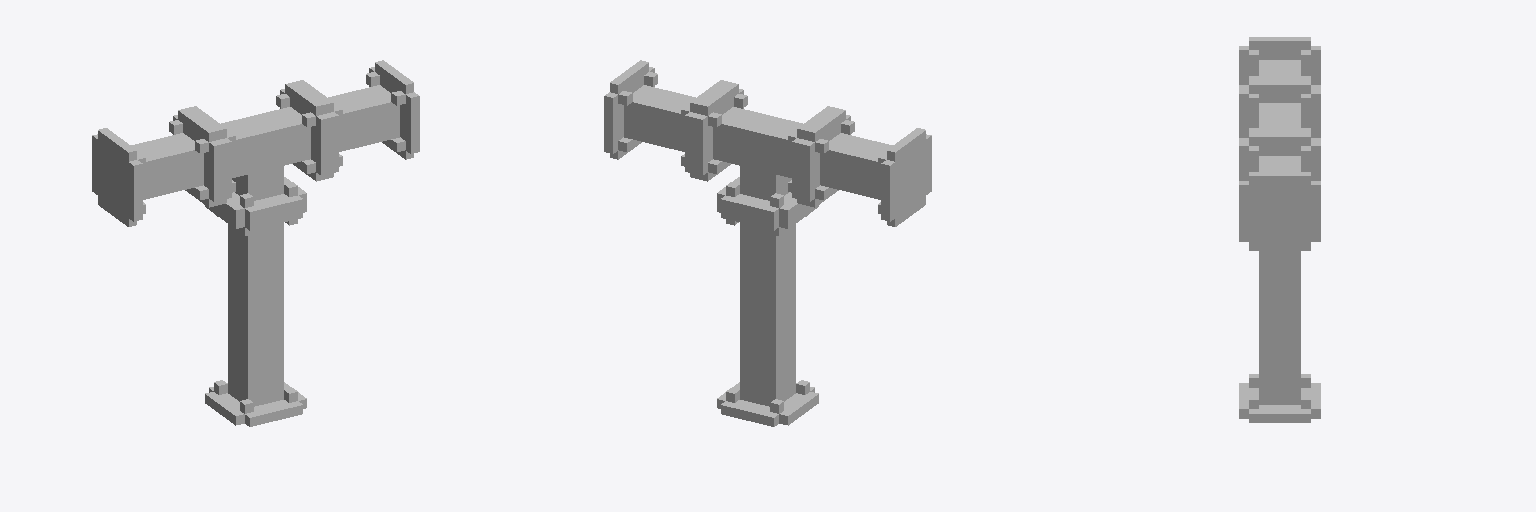
Rendered from Menu Scene 03-46.obj.
3 renders of one model, left to right at view 1: azimuth 30°, elevation 25°; view 2: azimuth 150°, elevation 25°; view 3: azimuth 270°, elevation 25°, orthographic.
Parts seen in each view (by area): view 1: Menu Scene 03-46; view 2: Menu Scene 03-46; view 3: Menu Scene 03-46.
Part boxes in pixels (x1,y1,x2,y2): Menu Scene 03-46: (92,60,419,426); Menu Scene 03-46: (604,60,931,426); Menu Scene 03-46: (1239,37,1320,422).
Bounding box in the file's own units: 32 × 32 × 8.